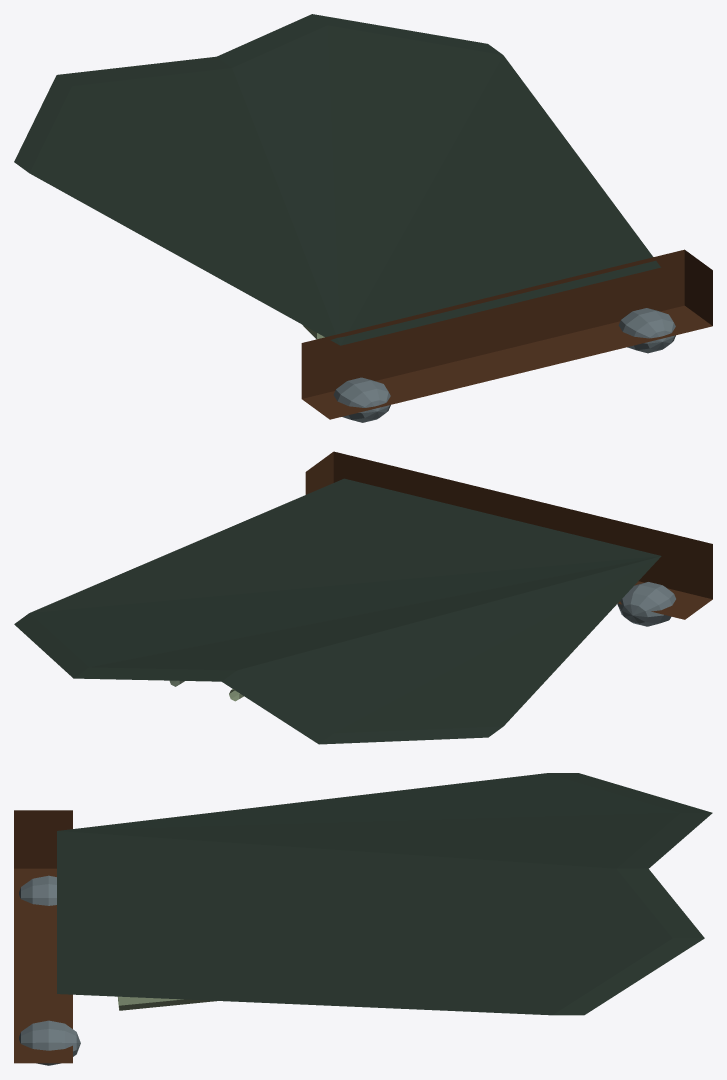
The model's file is back_cape.obj.
3 views of the same model, one above another, from view 1: azimuth 30°, elevation 25°; view 2: azimuth 150°, elevation 25°; view 3: azimuth 270°, elevation 25° (orthographic). The views are drawn at different scales.
Parts seen in each view (by area): view 1: CapeMain, CapeCollar, Clasp1, Clasp-1; view 2: CapeMain, CapeCollar, Clasp-1; view 3: CapeMain, CapeCollar, Clasp1, Clasp-1, Fold4.
Boxes of the visible parts, box(x1,y1,x2,y2) form: CapeMain: box(14, 14, 660, 345); CapeCollar: box(301, 249, 712, 419); Clasp1: box(618, 308, 675, 353); Clasp-1: box(333, 377, 390, 422); CapeMain: box(14, 478, 661, 744); CapeCollar: box(305, 451, 712, 619); Clasp-1: box(617, 582, 675, 626); CapeMain: box(57, 773, 712, 1015); CapeCollar: box(14, 810, 72, 1063); Clasp1: box(19, 1020, 80, 1065); Clasp-1: box(19, 875, 56, 905); Fold4: box(118, 996, 216, 1010).
Bounding box in the file's own units: 2.14 × 0.4961 × 2.61.
